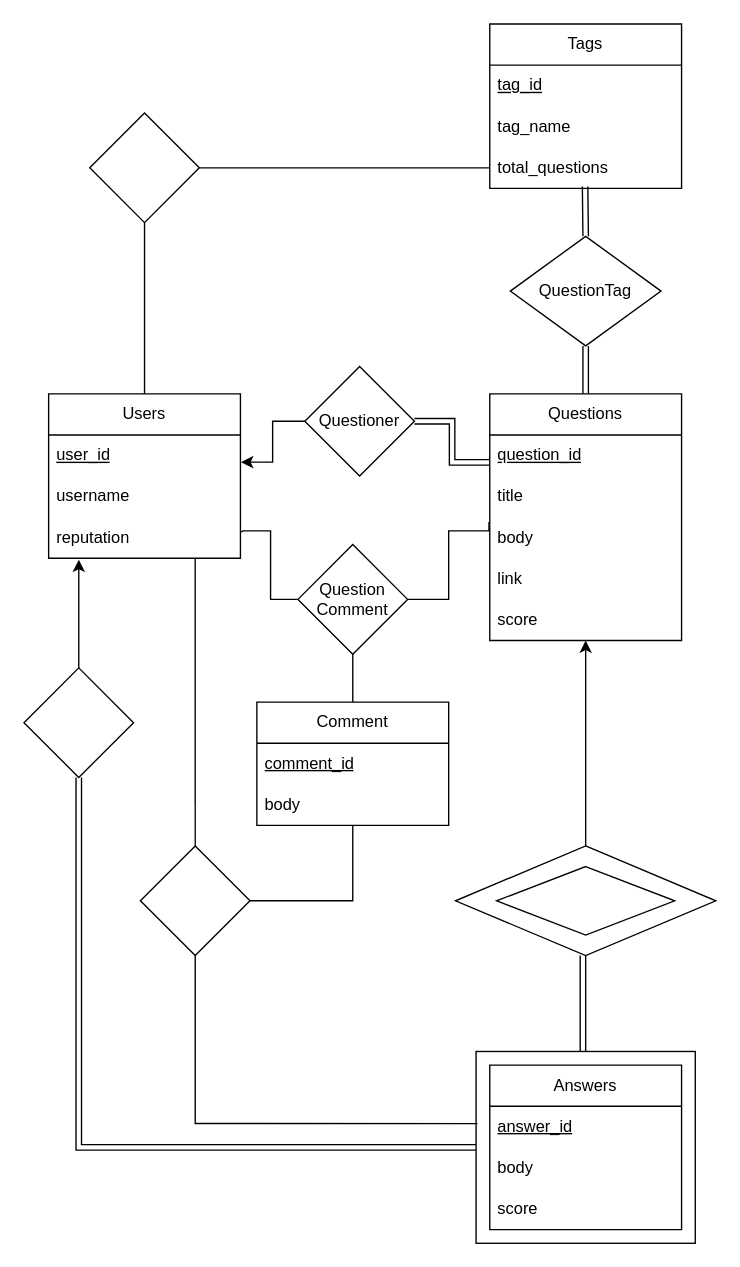
The diagram is 740 pixels wide and 1267 high, and some of its shapes have lost their labels. The shapes that lost their labels are listed below. From the top down, each one's centre as x and y in pixels, then its label:
the point at 143,167: UserTag
the point at 78,722: Answerer
the point at 194,900: Answer Comment
the point at 585,900: QuestionAnswer
